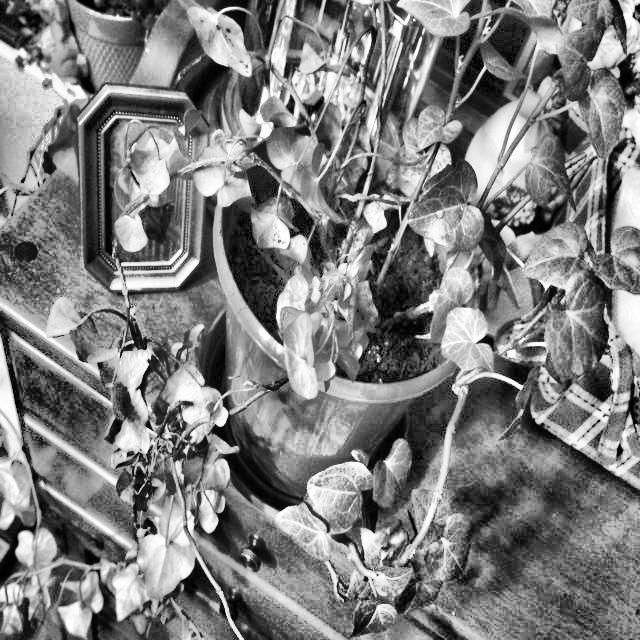plants: (0, 4, 639, 396), (0, 395, 258, 639)
